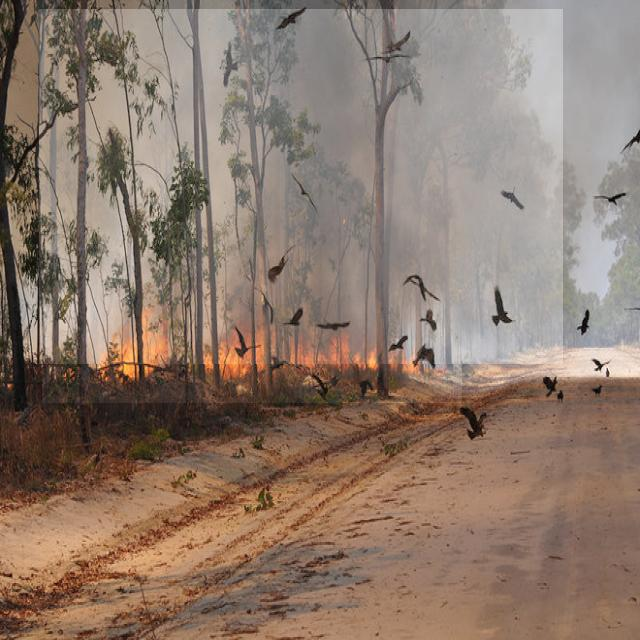Fire: (42, 314, 462, 403)
Smoke: (39, 9, 564, 364)
